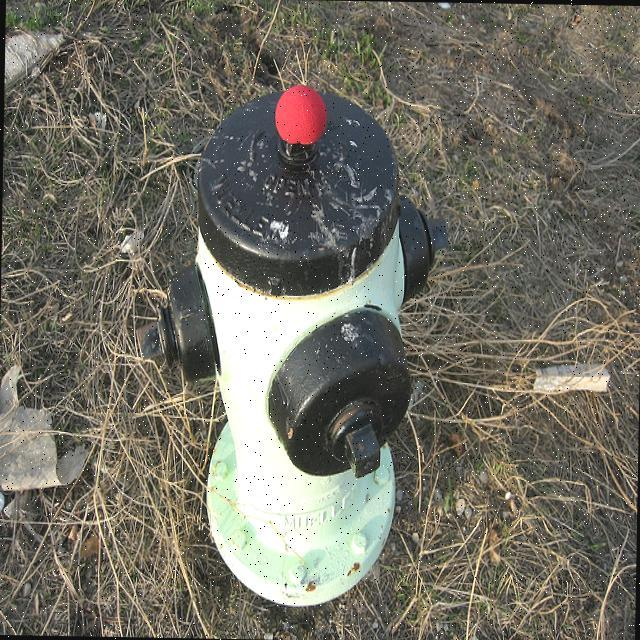fire_hydrant: (127, 81, 451, 609)
